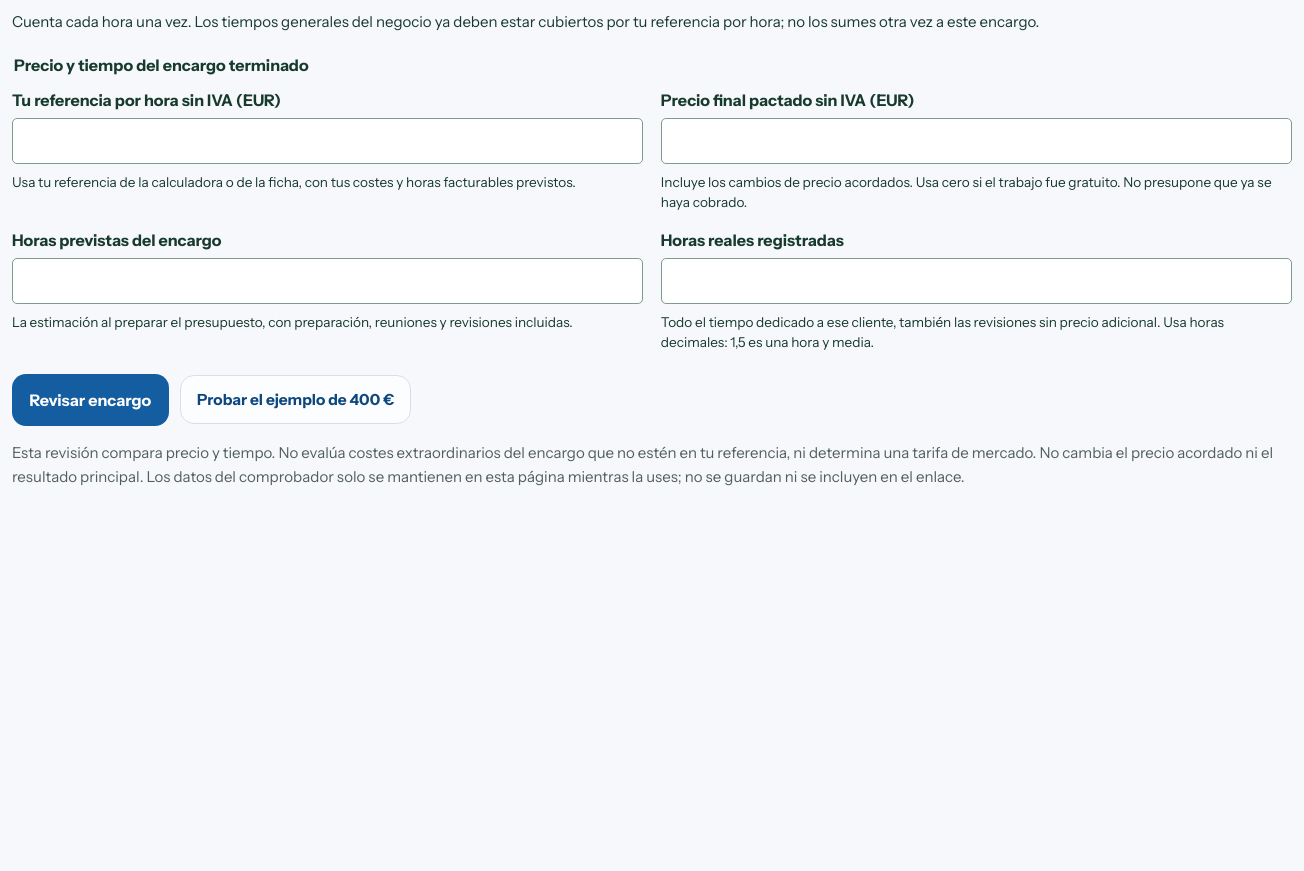
Test: completed project review editor › reproduces the worked example and removes stale figures and its fictional label on edit
Click the button "Probar el ejemplo de 400 €": (296, 400) left=180, top=376, right=411, bottom=424
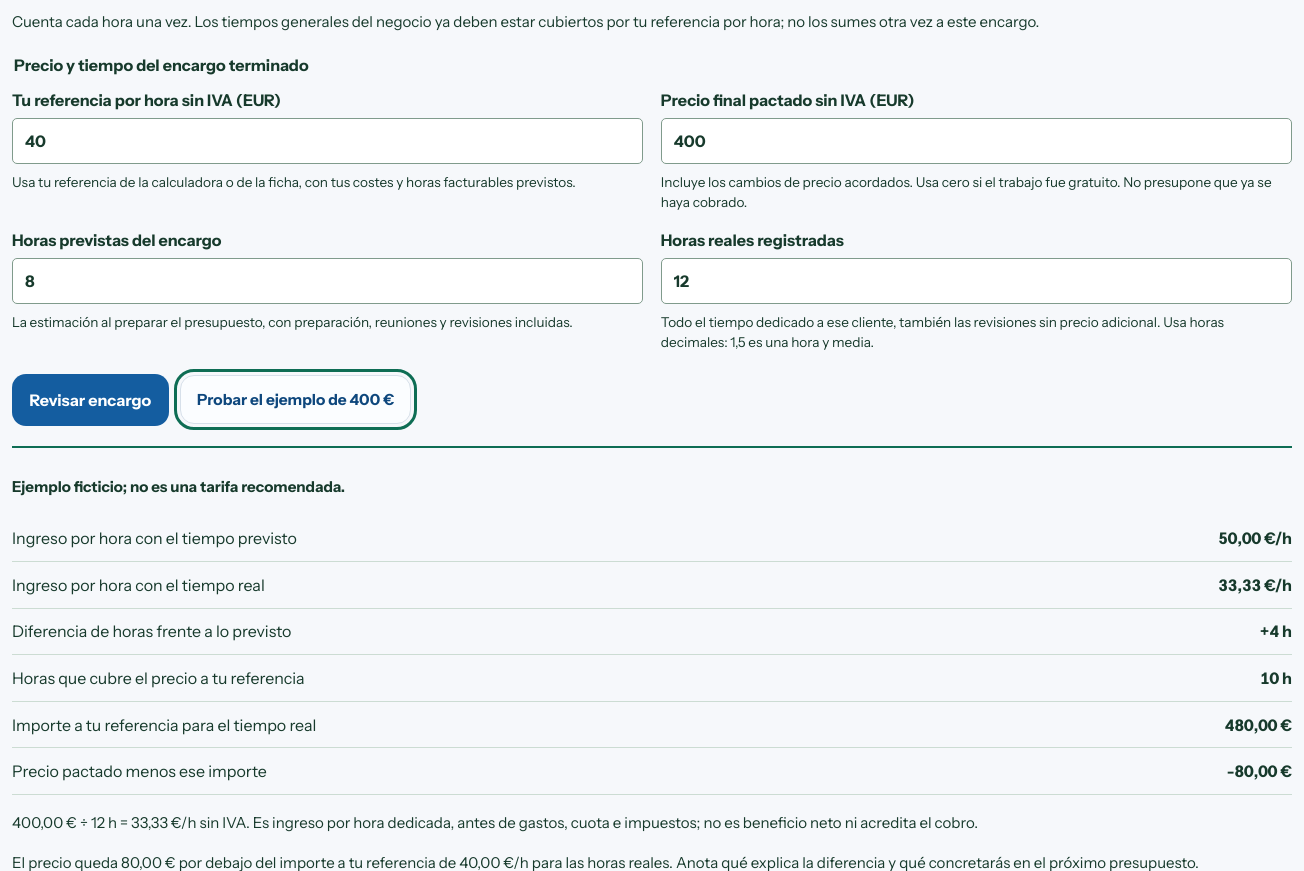
Check: the message named "Revisión del encargo" shows "Ejemplo ficticio", box left=12, top=477, right=345, bottom=496
Check: the message named "Revisión del encargo" shows "33,33", box left=1218, top=575, right=1275, bottom=595
Check: the message named "Revisión del encargo" shows "80,00", box left=1227, top=761, right=1292, bottom=781
Replace the text in the field labelled "Horas reales registradas" with "6": (976, 281) left=661, top=258, right=1292, bottom=304
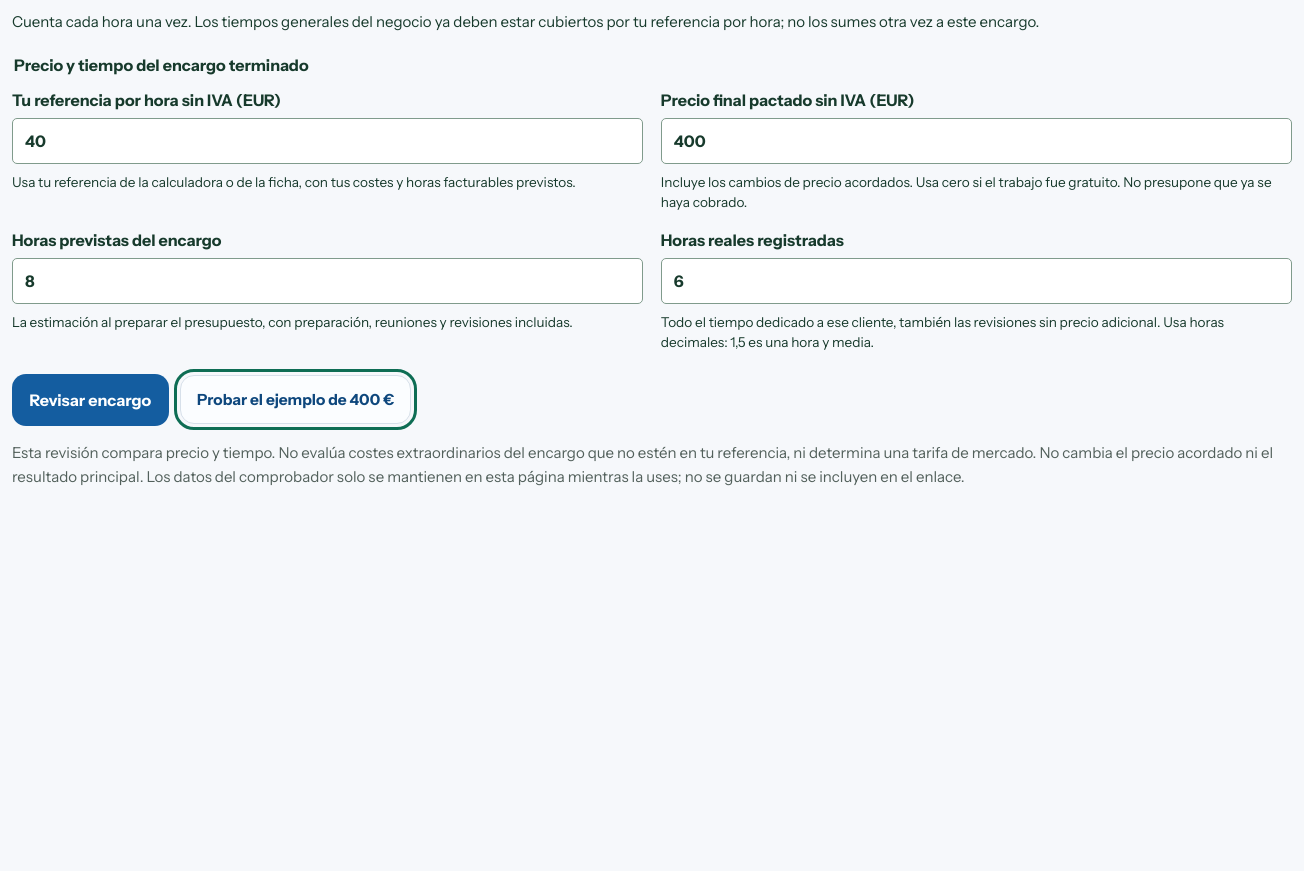
Click the button "Revisar encargo": (90, 400) left=12, top=374, right=169, bottom=426
(page scrolled)
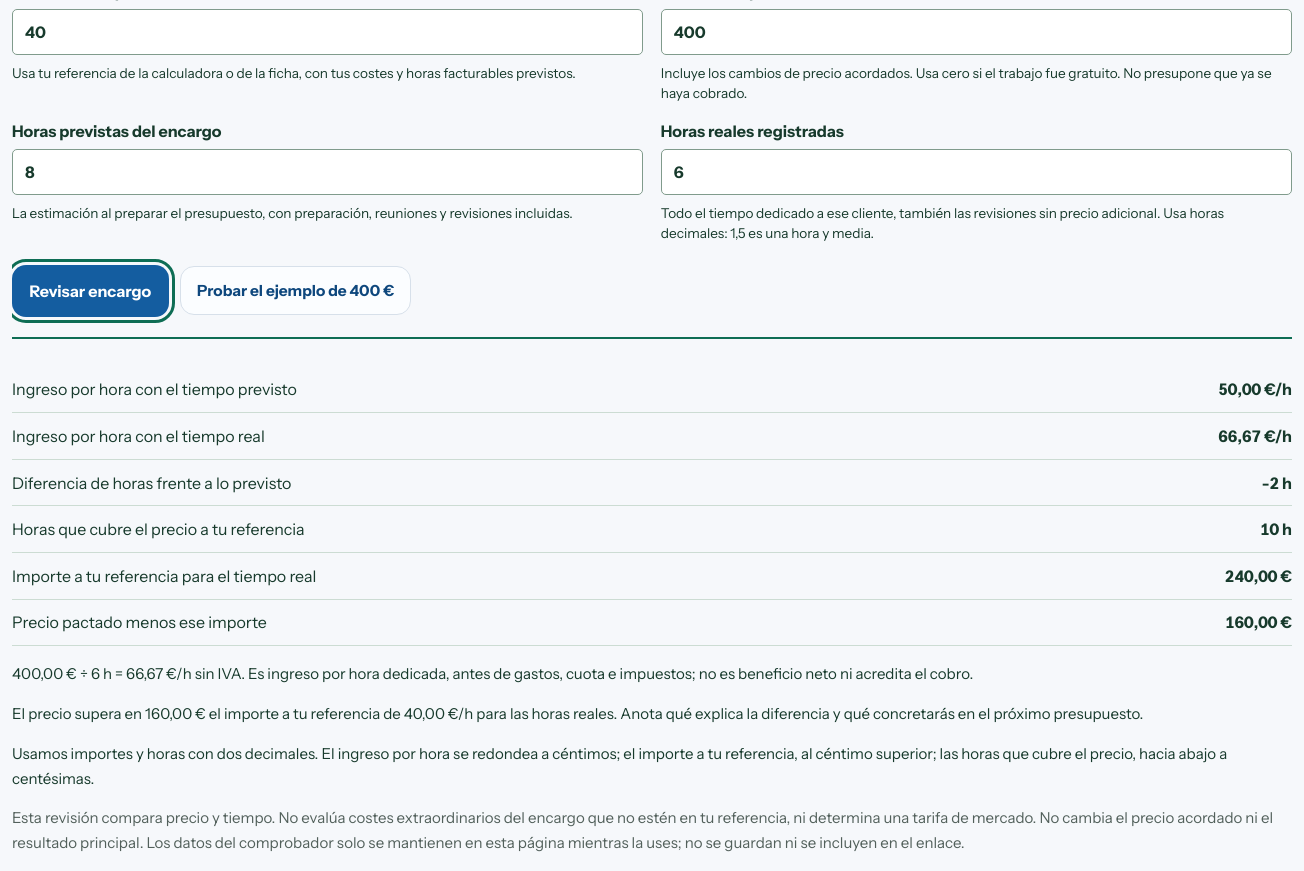
Check: the message named "Revisión del encargo" shows "66,67", box left=1218, top=426, right=1275, bottom=446
Check: the message named "Revisión del encargo" shows "-2 h", box left=12, top=337, right=1292, bottom=792
Check: the message named "Revisión del encargo" shows "supera en 160,00", box left=12, top=704, right=617, bottom=723
